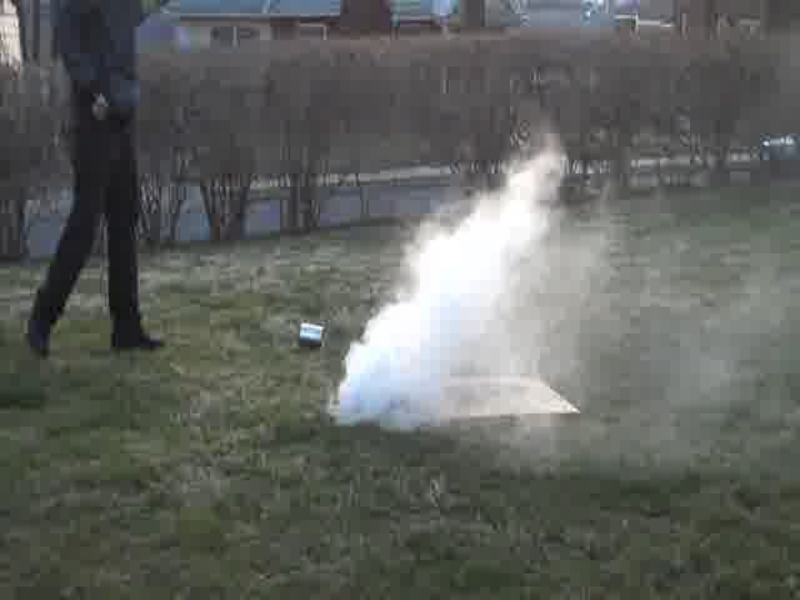smoke: (345, 204, 557, 425)
